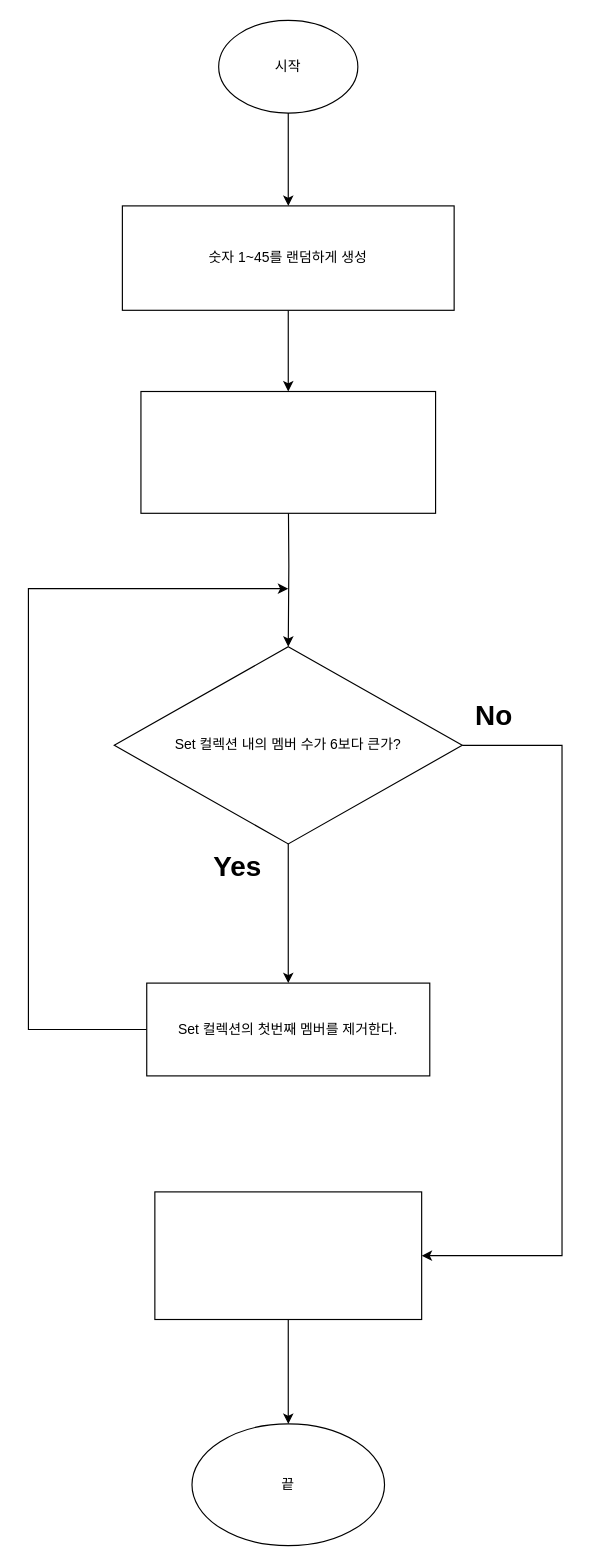
Image size: 592x1566. Some labels were removed from this diagram. Each missing label, with the centre of its shape:
Set 컬렉션을 print 한다.: [288,1255]
랜덤하게 생성된 숫자를 Set 컬렉션에 저장: [288,451]
